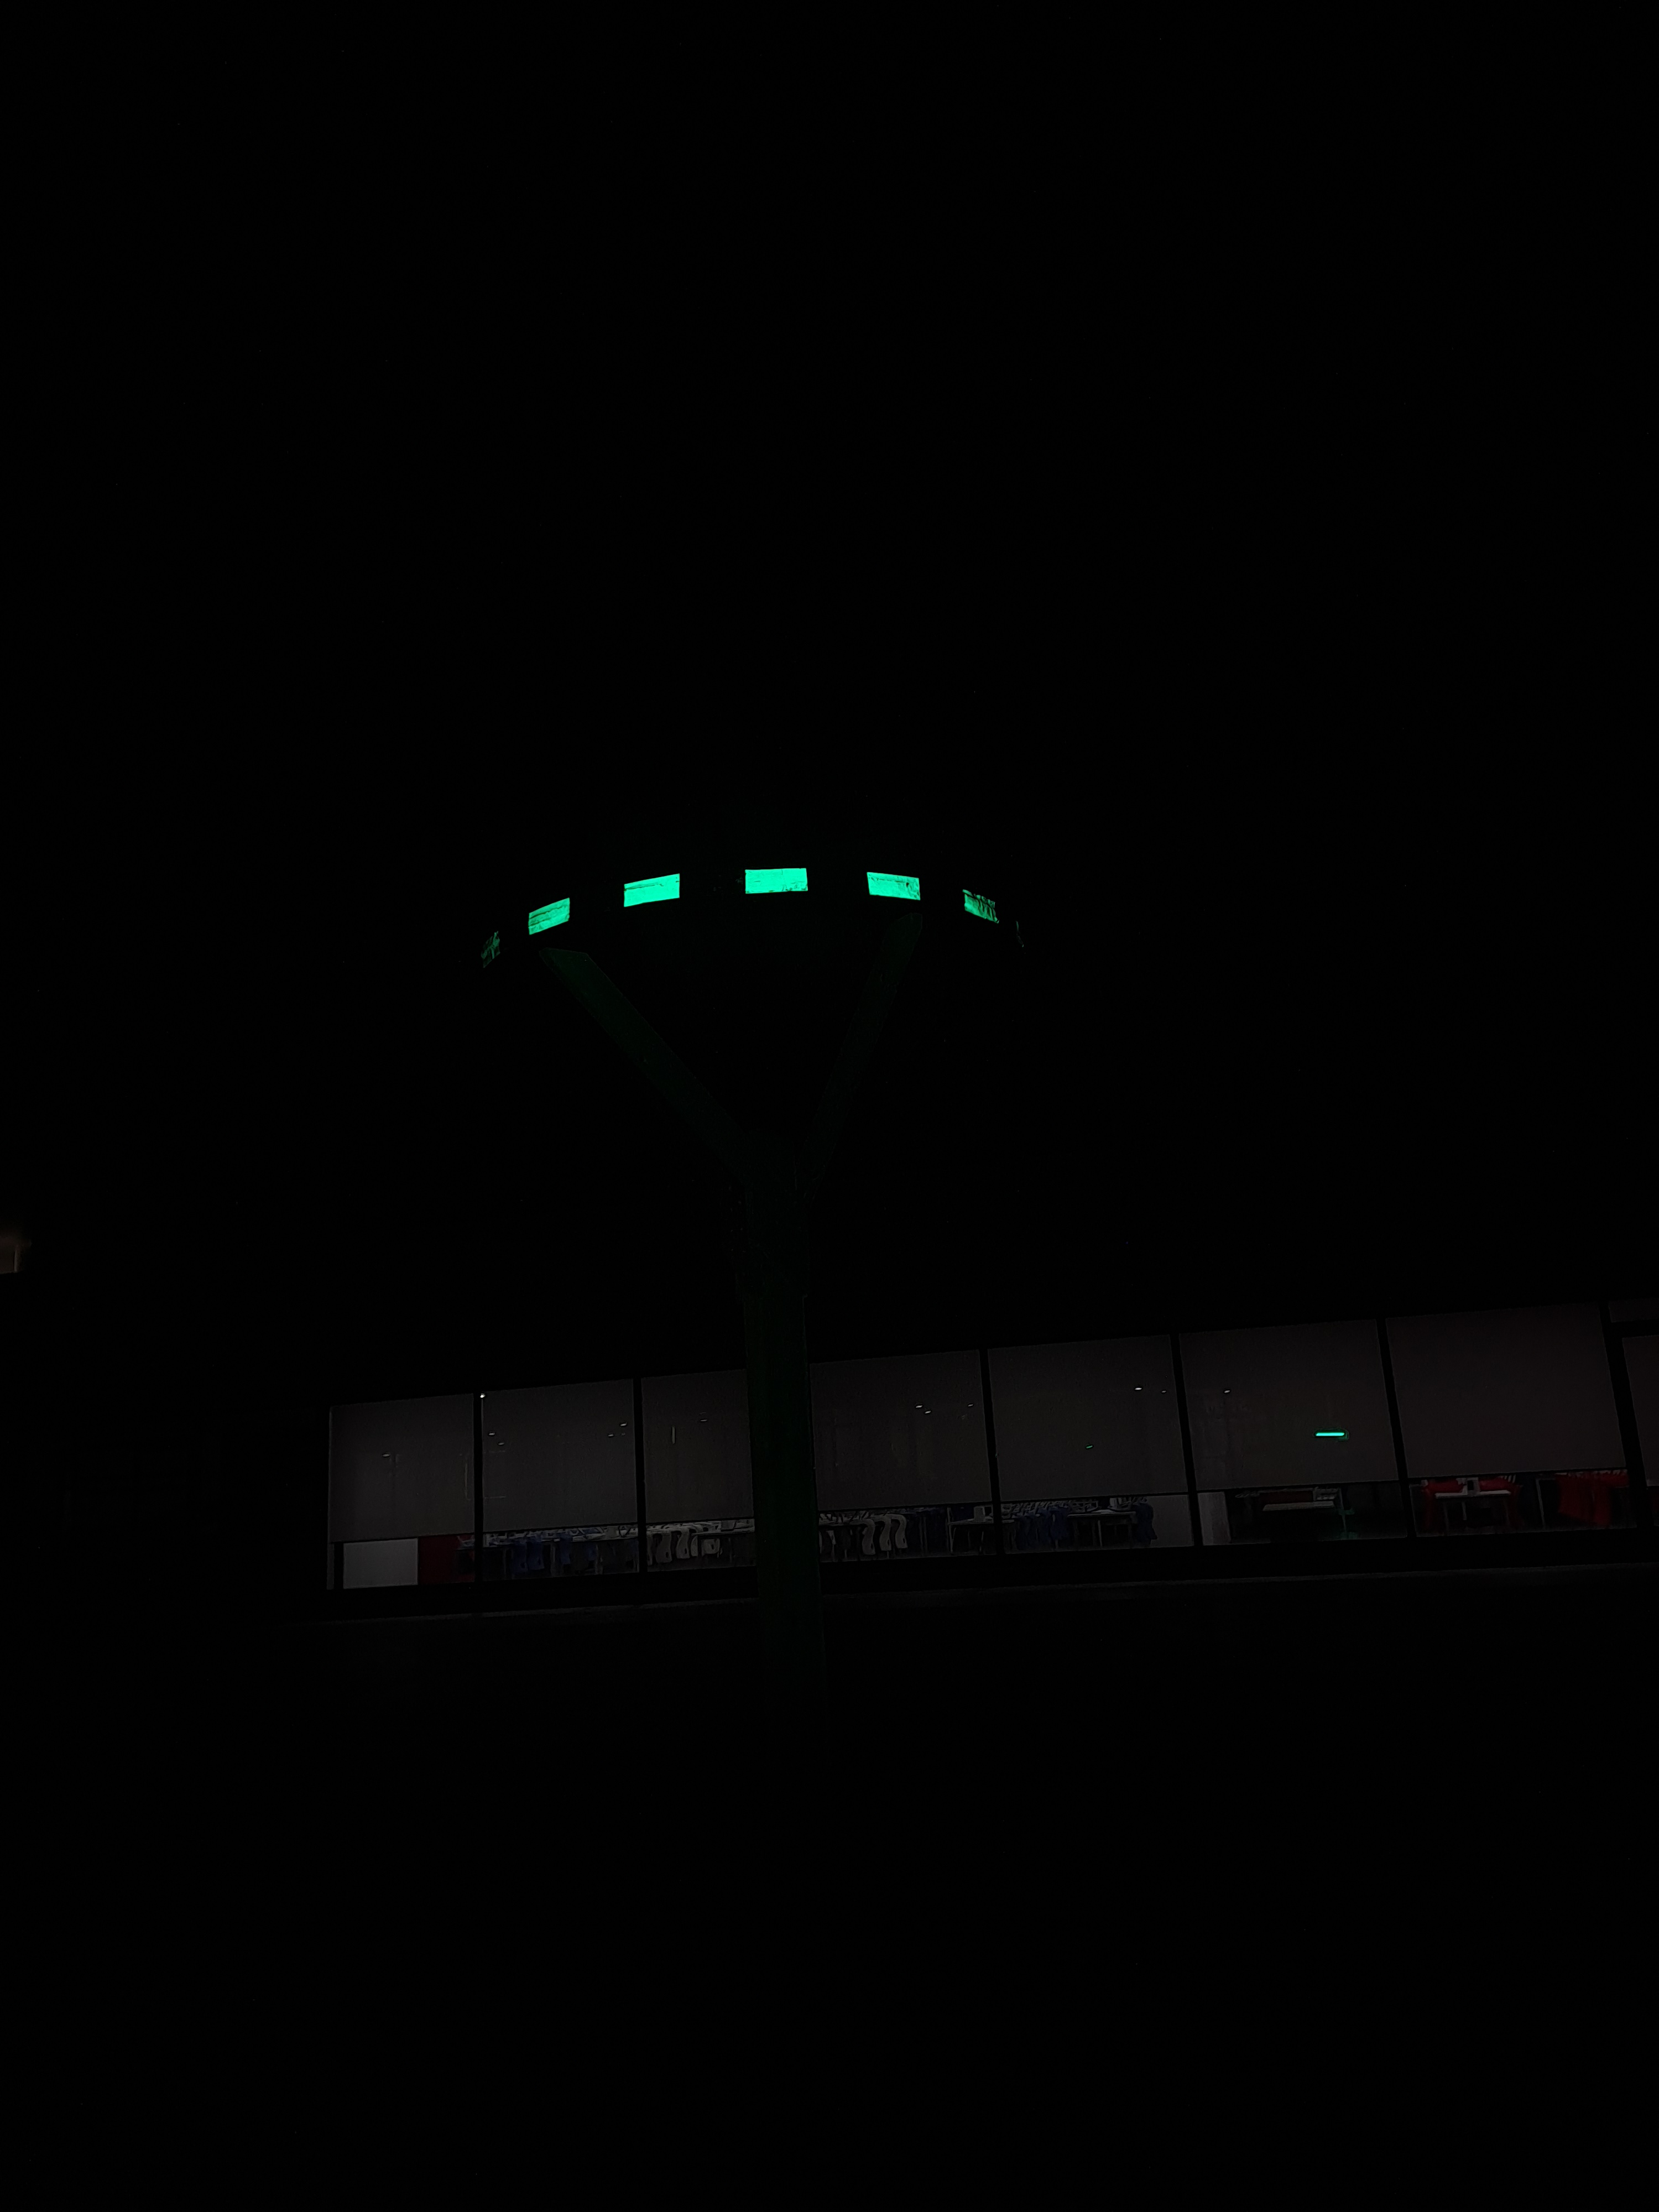hoop: (523, 864, 1007, 942)
